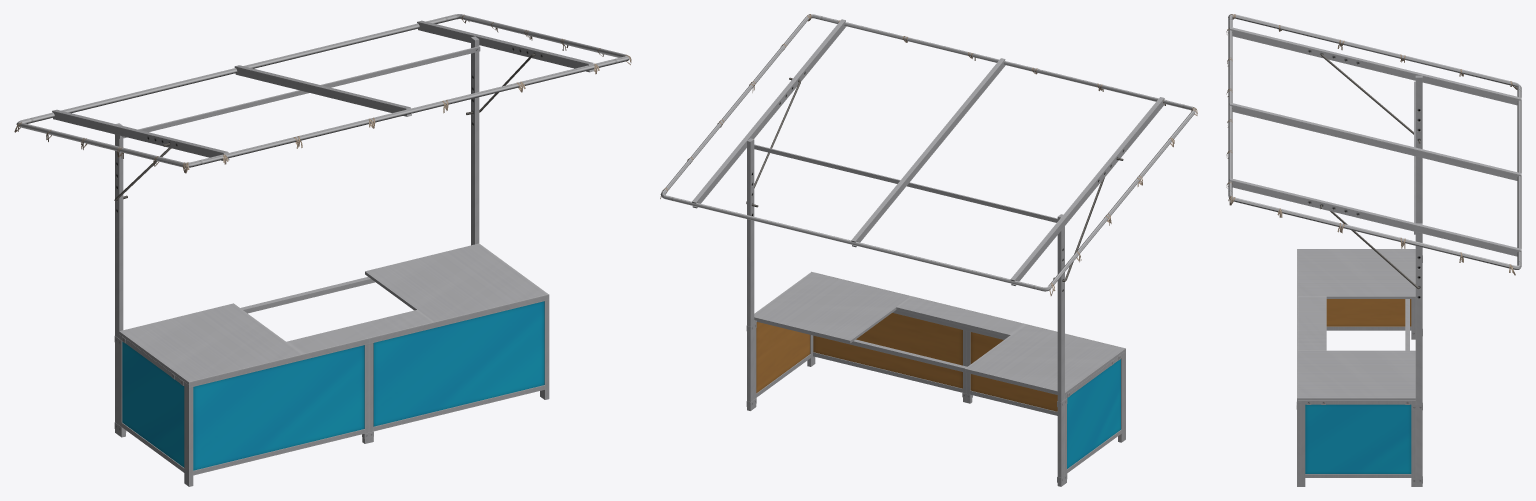
The model's file is jsf_2P_s03_c02_t02.fbx.
3 renders of one model, left to right at view 1: azimuth 30°, elevation 25°; view 2: azimuth 150°, elevation 25°; view 3: azimuth 270°, elevation 25°, orthographic. The views are drawn at different scales.
Visible parts, largest first — view 1: Base_s03_c02, Table_2P_s03_t02, Pillar2_s03, Rope_2P_s03; view 2: Base_s03_c02, Pillar2_s03, Table_2P_s03_t02; view 3: Pillar2_s03, Table_2P_s03_t02, Base_s03_c02, Rope_2P_s03.
Part boxes in pixels (box(x1,y1,x2,y2)): Base_s03_c02: box(114, 294, 549, 486); Table_2P_s03_t02: box(119, 243, 547, 385); Pillar2_s03: box(16, 14, 629, 435); Rope_2P_s03: box(14, 14, 631, 173); Base_s03_c02: box(746, 271, 1125, 483); Pillar2_s03: box(660, 14, 1196, 486); Table_2P_s03_t02: box(754, 272, 1125, 397); Pillar2_s03: box(1228, 14, 1521, 486); Table_2P_s03_t02: box(1298, 249, 1415, 404); Base_s03_c02: box(1296, 249, 1422, 486); Rope_2P_s03: box(1226, 14, 1517, 275).
Size of the model in its own units: 316 by 244 by 211.
